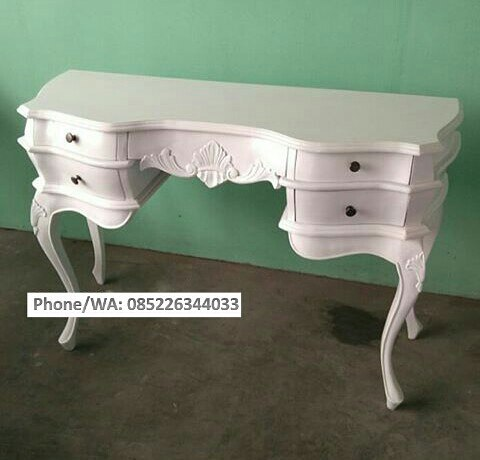Carving Table: (16, 60, 457, 407)
